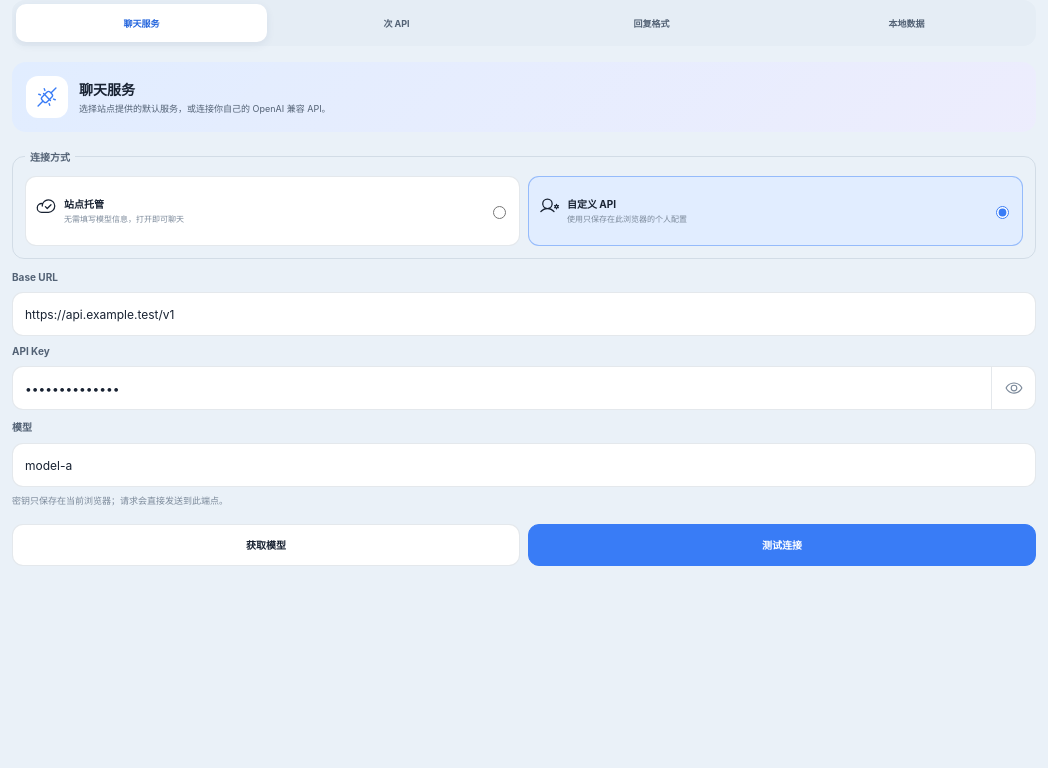
Scenario: SillyTavern settings panel › masks API secrets and exposes complete primary and secondary configuration
Step 1. Click the button named "显示主 API 密钥" → (1014, 388), box [992,366,1036,410]
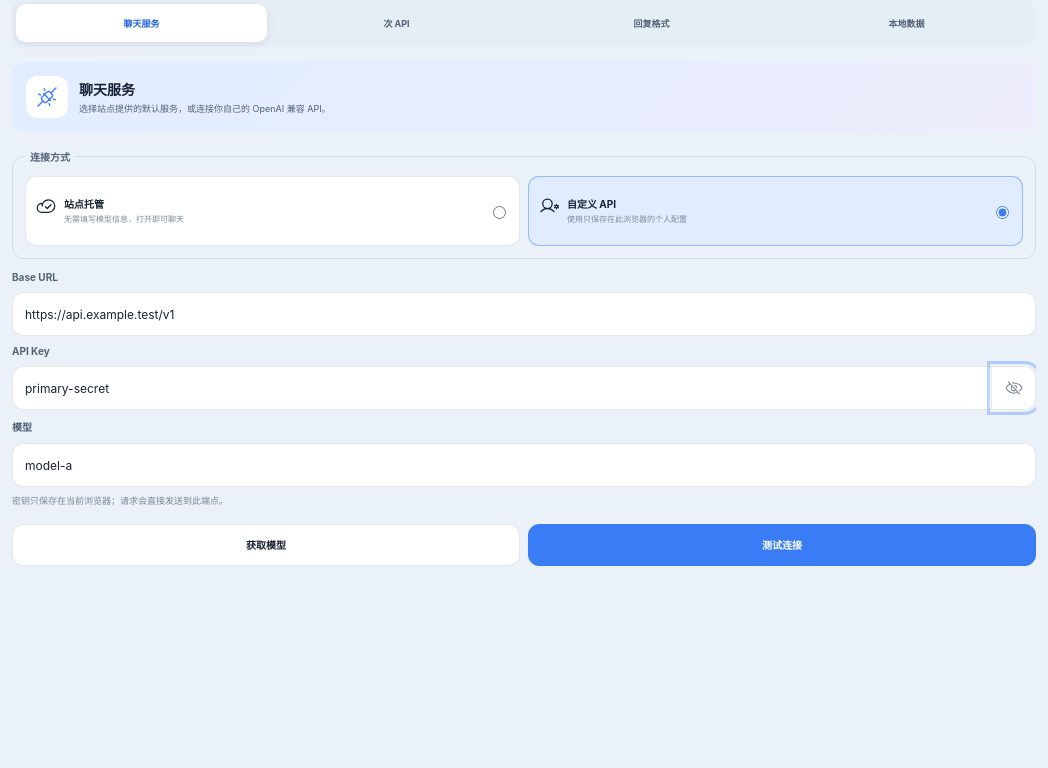
Expected: the field labelled "API Key" shows its text, [12,366,992,410]
Step 2. Click the button "次 API" → (396, 23), box [271,4,522,42]
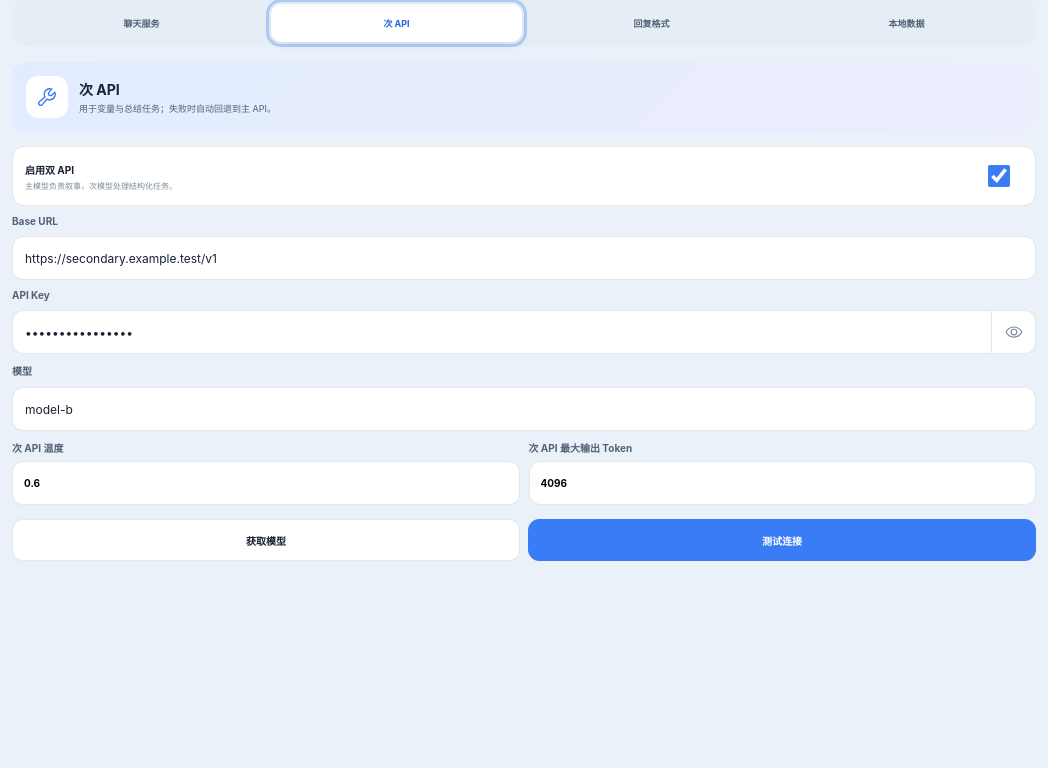
Expected: the checkbox labelled "启用双 API 主模型负责叙事，次模型处理结构化任务。" is checked, [978,165,1020,187]
Expected: the number field labelled "次 API 温度" holds "0.6", [12,461,520,505]
Expected: the number field labelled "次 API 最大输出 Token" holds "4096", [528,461,1036,505]
